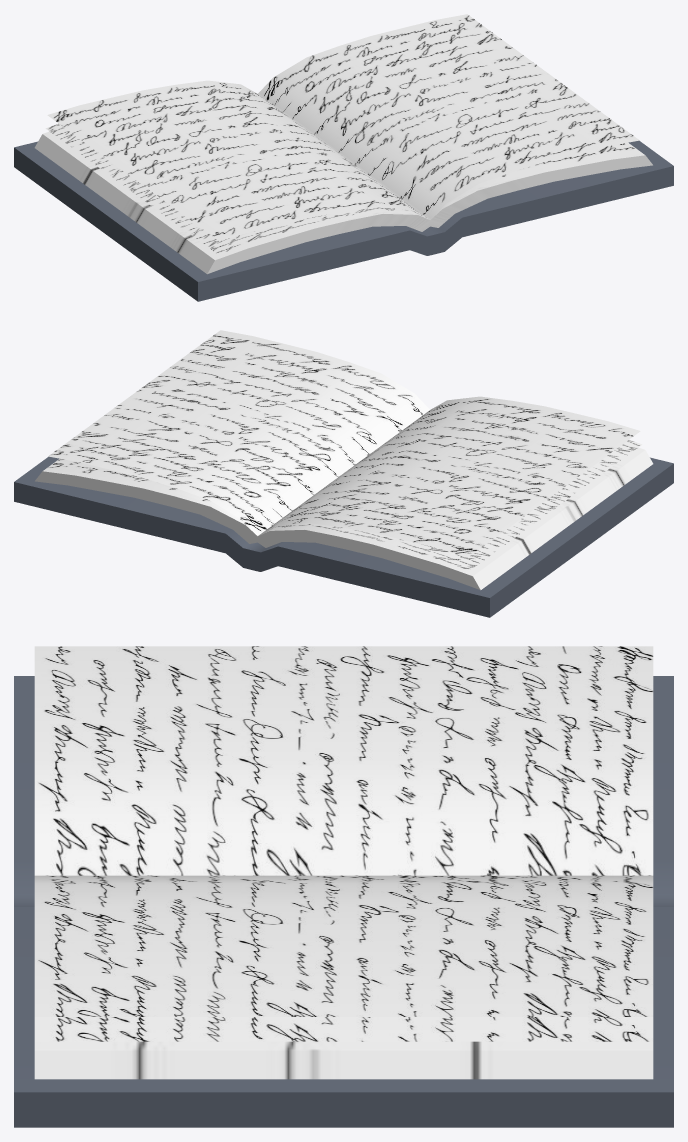
File: book_text.fbx
3 renders of one model, top to bottom at view 1: azimuth 30°, elevation 25°; view 2: azimuth 150°, elevation 25°; view 3: azimuth 270°, elevation 25°, orthographic. The views are drawn at different scales.
Parts seen in each view (by area): view 1: polySurface4_3, polySurface5, polySurface1, polySurface3, polySurface4, polySurface5_3; view 2: polySurface4_3, polySurface5, polySurface1, polySurface3, polySurface4, polySurface5_3; view 3: polySurface5, polySurface4_3, polySurface1, polySurface3, polySurface5_3.
Boxes of the visible parts, left/top/right/bottom form: polySurface4_3: left=259, top=14, right=639, bottom=218; polySurface5: left=47, top=80, right=426, bottom=241; polySurface1: left=14, top=140, right=673, bottom=301; polySurface3: left=34, top=131, right=652, bottom=274; polySurface4: left=45, top=93, right=427, bottom=254; polySurface5_3: left=258, top=93, right=640, bottom=219; polySurface4_3: left=48, top=330, right=428, bottom=534; polySurface5: left=261, top=396, right=640, bottom=557; polySurface1: left=14, top=456, right=673, bottom=617; polySurface3: left=35, top=447, right=653, bottom=590; polySurface4: left=260, top=409, right=642, bottom=570; polySurface5_3: left=47, top=409, right=429, bottom=535; polySurface5: left=34, top=646, right=653, bottom=875; polySurface4_3: left=34, top=875, right=653, bottom=1016; polySurface1: left=14, top=676, right=673, bottom=1127; polySurface3: left=34, top=1041, right=653, bottom=1079; polySurface5_3: left=34, top=1017, right=653, bottom=1041.
Size of the model in its own units: 0.011 by 0.00136 by 0.00738.
Materials: 2 (1 with a texture image).
